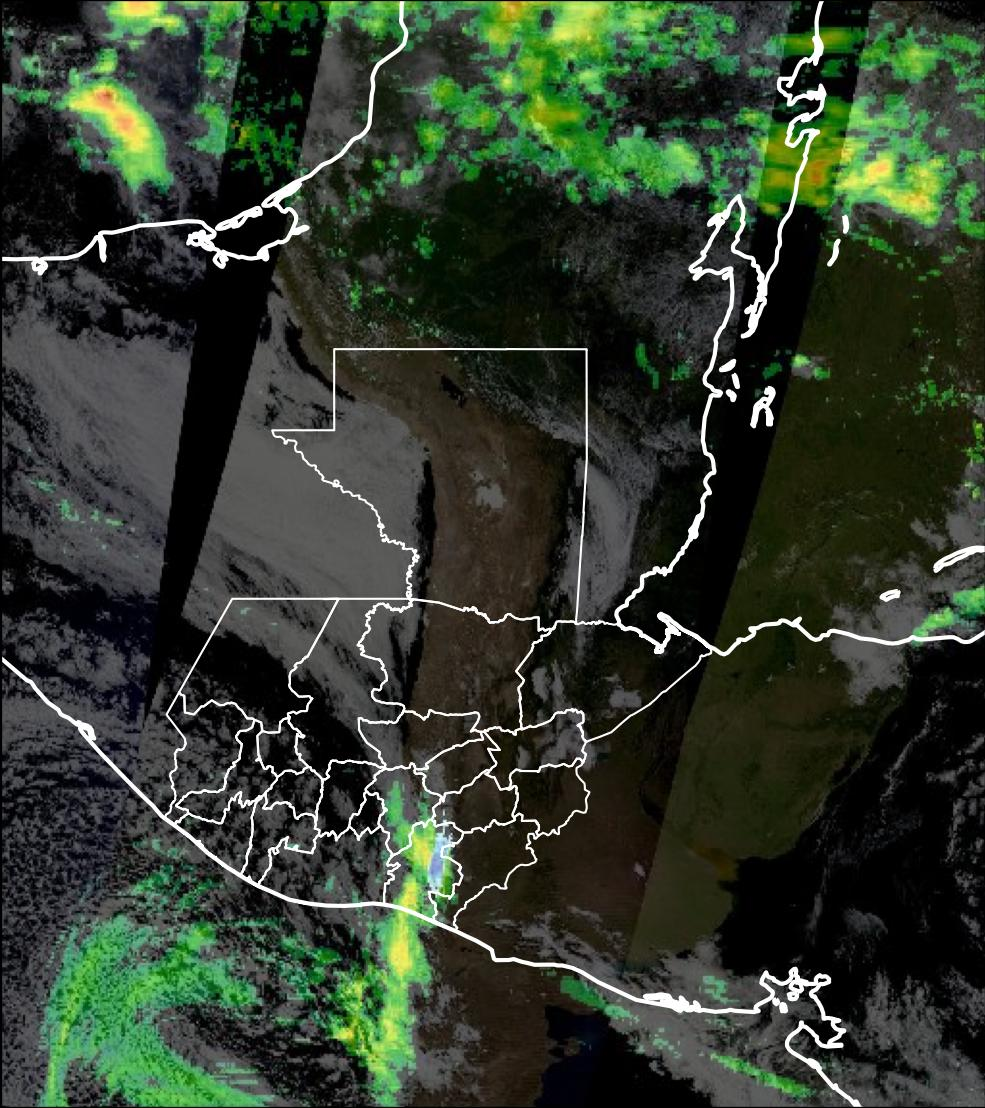precipitacion: (76, 74, 161, 157)
